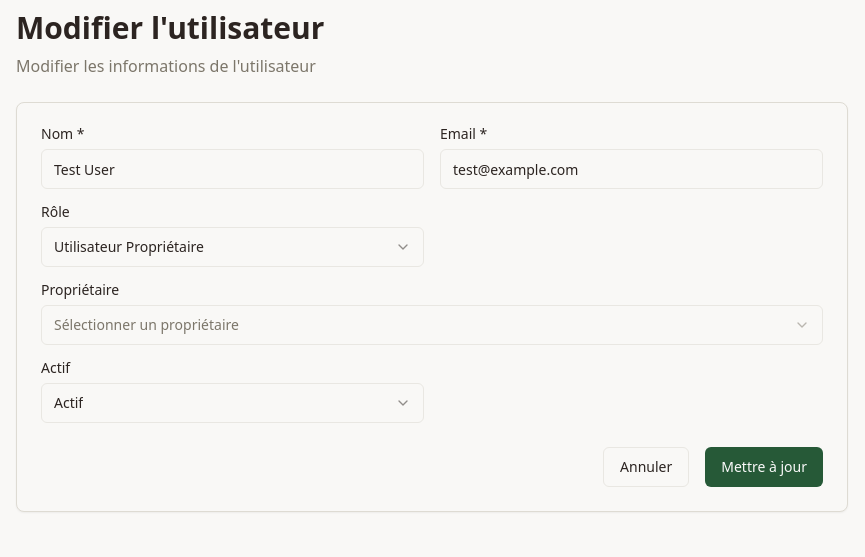
Scenario: UsersEditPage › shows validation errors when submitting empty form
Clear the form fields
Clear the field labelled "Nom *" at point(232, 169), box [41,149,424,189]
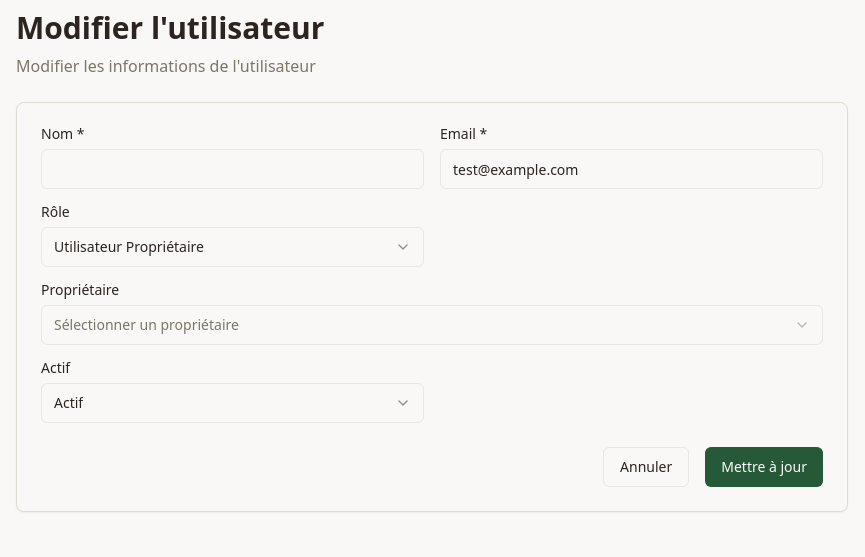
Clear the field labelled "Email *" at point(632, 169), box [440,149,823,189]
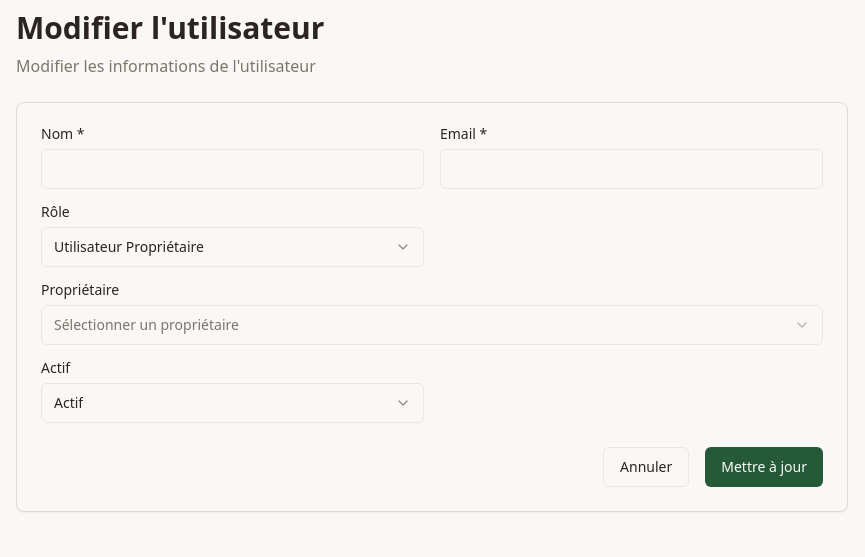
Click the button "Mettre à jour" at point(764, 467), box [705,447,823,487]
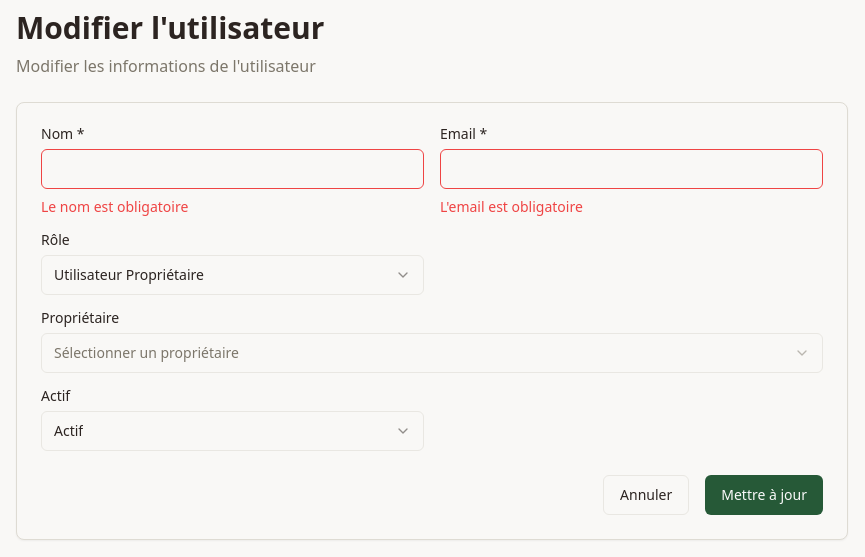
Now the text "Le nom est obligatoire" is shown, box [41,197,188,216]
Now the text "L'email est obligatoire" is shown, box [440,197,583,216]
